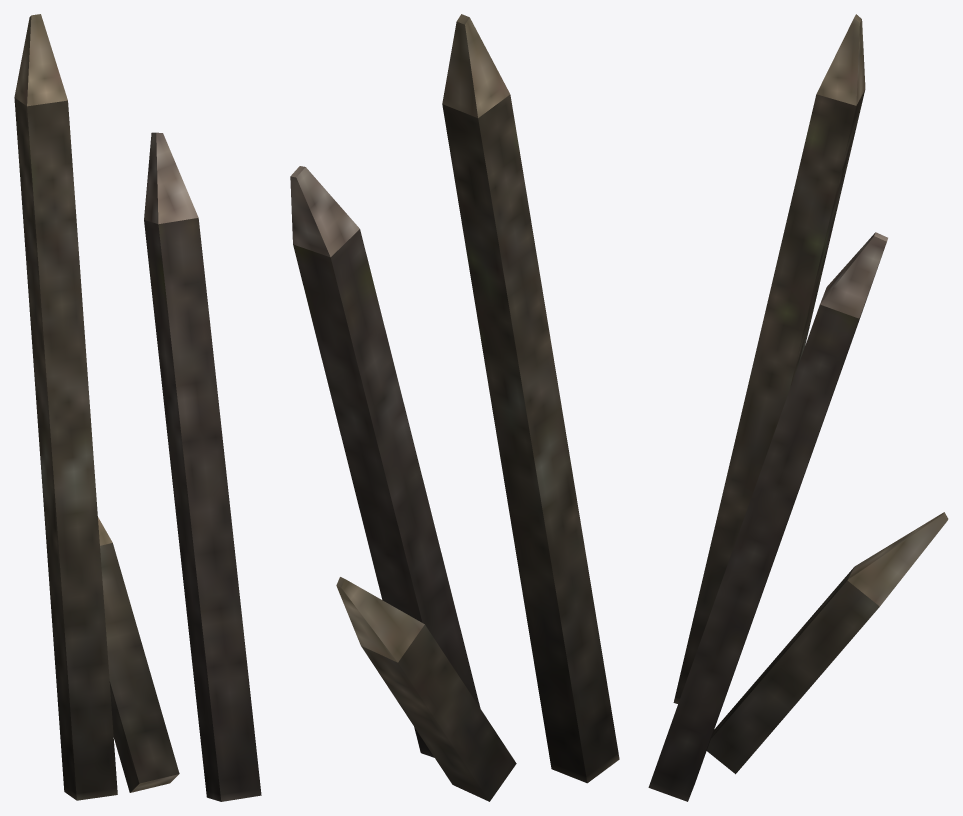
The model's file is angled_spikes_2.obj.
3 renders of one model, left to right at view 1: azimuth 30°, elevation 25°; view 2: azimuth 150°, elevation 25°; view 3: azimuth 270°, elevation 25°, orthographic. The views are drawn at different scales.
Parts seen in each view (by area): view 1: cube; view 2: cube; view 3: cube.
Part boxes in pixels (x1,y1,x2,y2): cube: (14, 14, 261, 801); cube: (290, 14, 619, 801); cube: (648, 14, 948, 801).
Size of the model in its own units: 0.9966 by 3.59 by 1.34.
